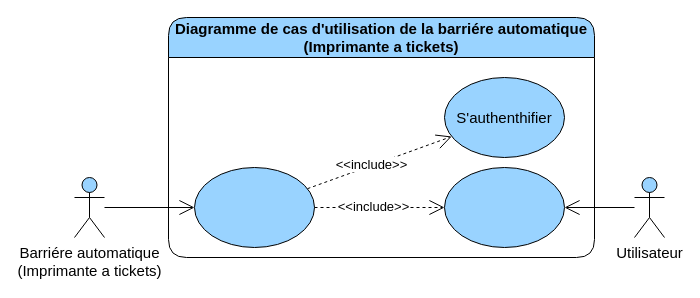
This 700x298 diagram has some shape labels left out. The box of each missing label's shape, as (x1, y1, x2, y2) in pixels:
Imprimer le ticket de péage: (444, 166, 564, 248)
Initier une session de trajet: (194, 166, 314, 248)
